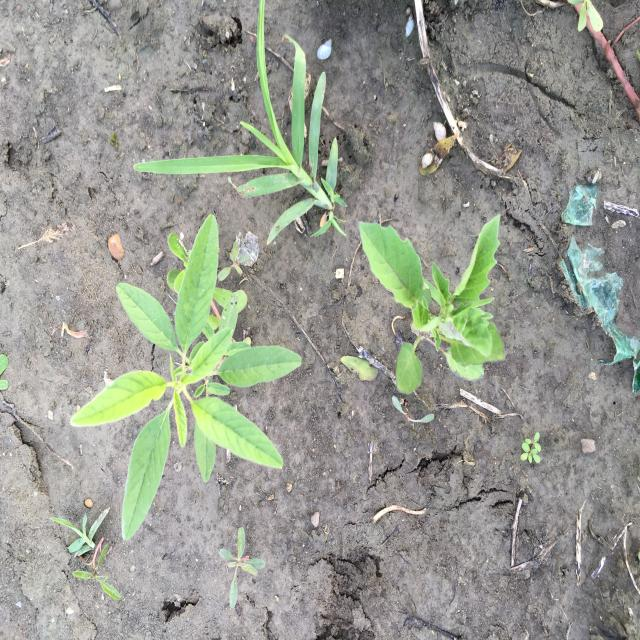CutleafGroundcherry: (357, 213, 507, 395)
Goosegrass: (132, 0, 349, 246), (52, 507, 112, 558)
Waterhemp: (69, 214, 303, 542), (218, 525, 267, 613), (74, 542, 123, 603)
